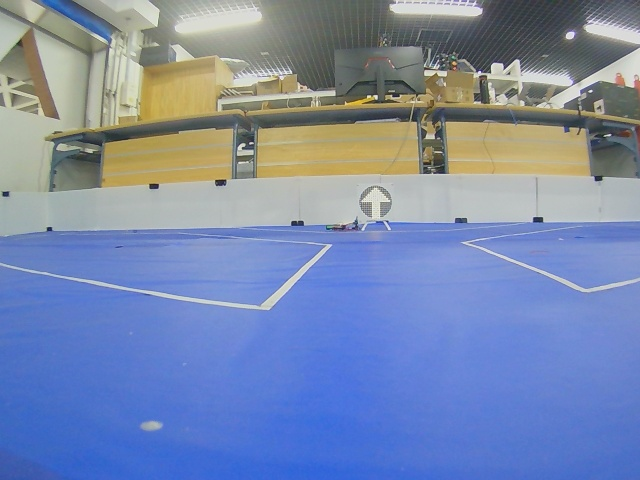straight_yellow: (359, 186, 392, 219)
